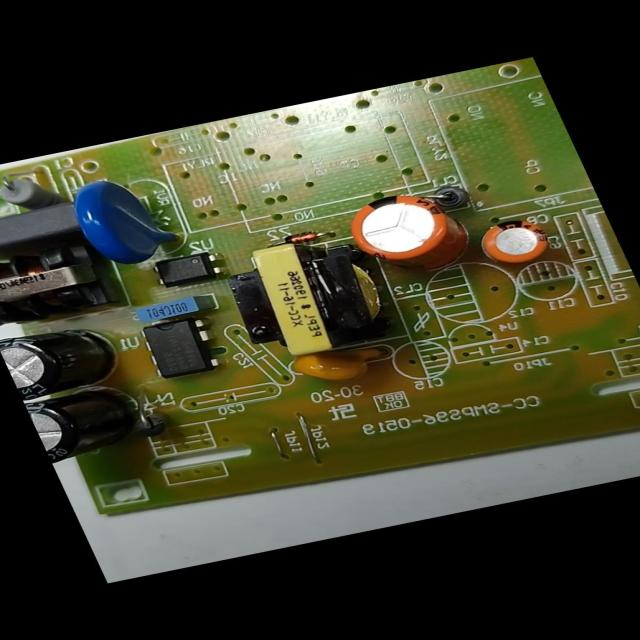Cap1: (338, 185, 481, 276)
Cap2: (470, 214, 558, 268)
Cap3: (0, 317, 133, 402)
Cap4: (24, 384, 153, 464), (0, 170, 60, 213)
MOSFET: (133, 312, 226, 380)
Mov: (60, 169, 186, 271)
Transformer: (215, 232, 404, 364), (0, 238, 119, 332)
